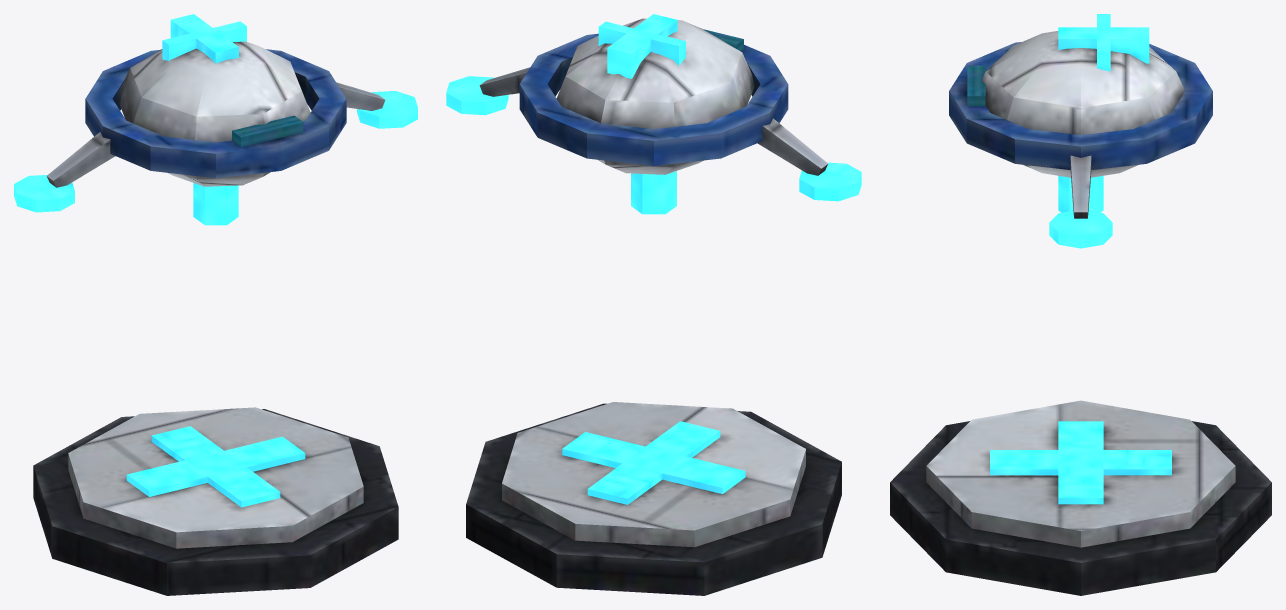
Rendered from u_medic1_w.glb.
The picture shows the model from 3 angles, left to right: view 1: azimuth 30°, elevation 25°; view 2: azimuth 150°, elevation 25°; view 3: azimuth 270°, elevation 25°; orthographic projection. The views are drawn at different scales.
Visible parts, largest first — view 1: u_medic1_w; view 2: u_medic1_w; view 3: u_medic1_w.
Boxes of the visible parts, bbox=[...] form: u_medic1_w: bbox=[14, 14, 417, 595]; u_medic1_w: bbox=[446, 14, 861, 595]; u_medic1_w: bbox=[890, 14, 1271, 595].
Bounding box in the file's own units: 1.02 × 1.17 × 0.84.
Materials: 1 (1 with a texture image).
